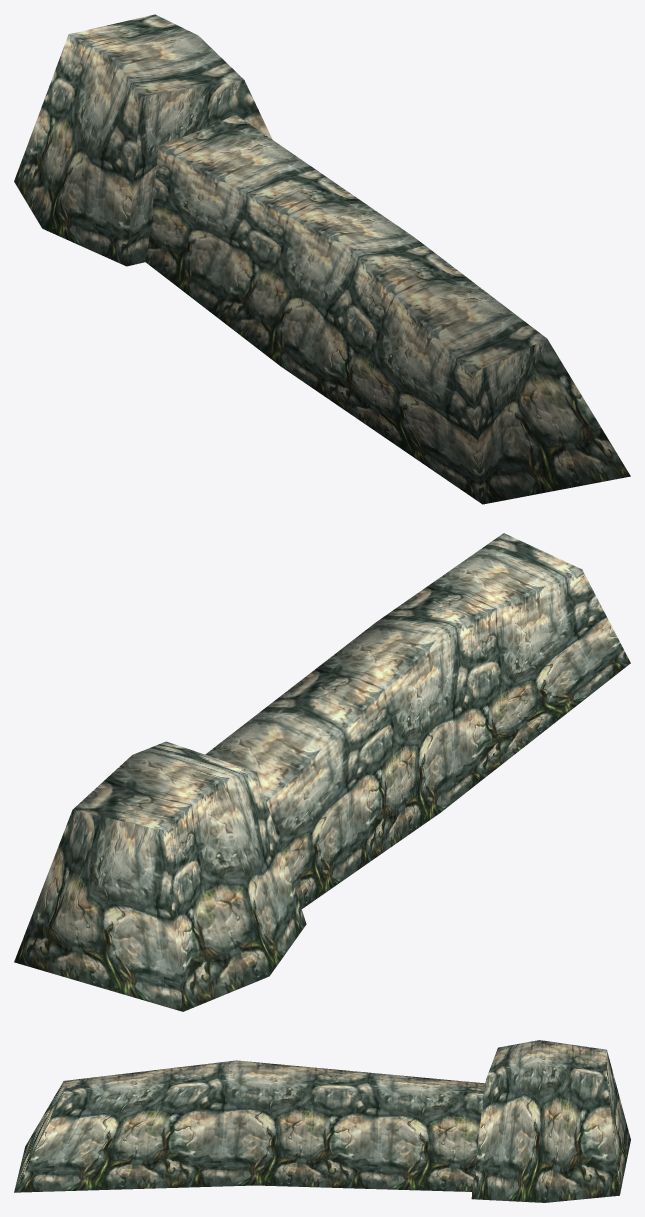
Rendered from duskwoodrockwall.obj.
3 renders of one model, top to bottom at view 1: azimuth 30°, elevation 25°; view 2: azimuth 150°, elevation 25°; view 3: azimuth 270°, elevation 25°, orthographic. The views are drawn at different scales.
Visible parts, largest first — view 1: duskwoodrockwall0; view 2: duskwoodrockwall0; view 3: duskwoodrockwall0.
Boxes of the visible parts, <box> form: duskwoodrockwall0: <box>14,14,630,504</box>; duskwoodrockwall0: <box>14,533,630,1011</box>; duskwoodrockwall0: <box>14,1040,630,1202</box>.
Size of the model in its own units: 1.93 by 1.41 by 6.96.
Materials: 1 (1 with a texture image).
